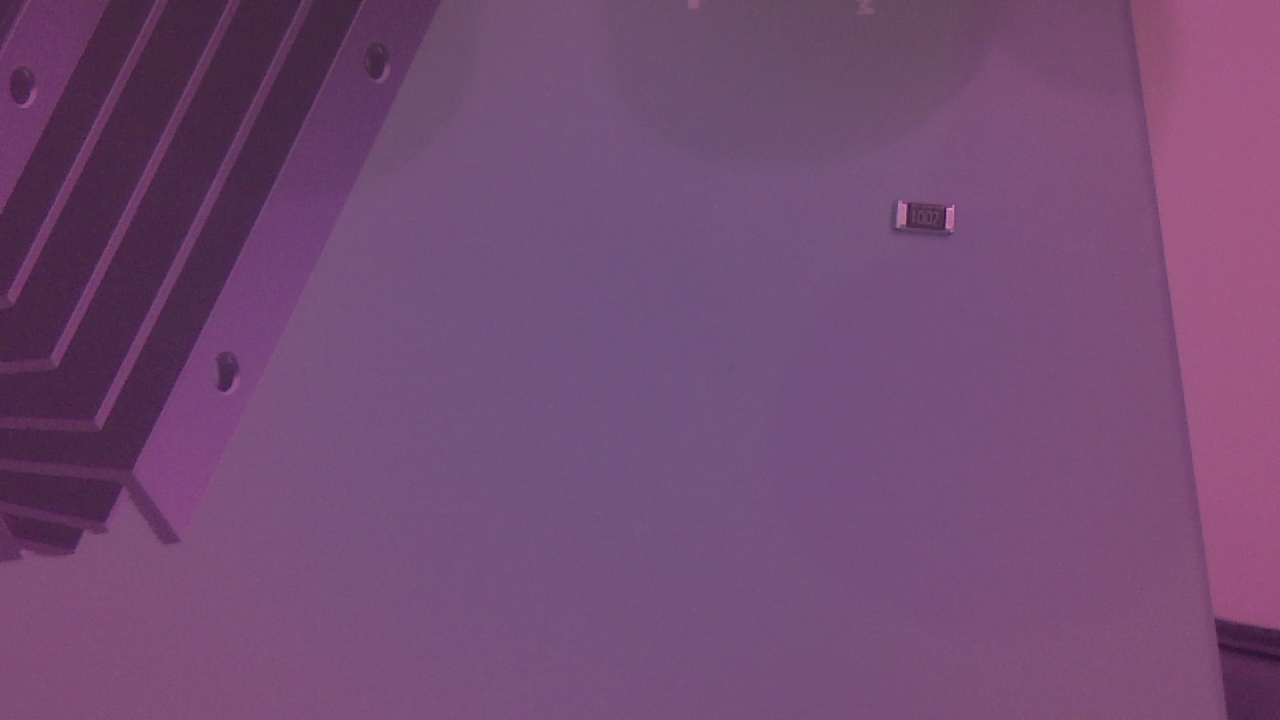Resistor: (893, 199, 966, 250)
